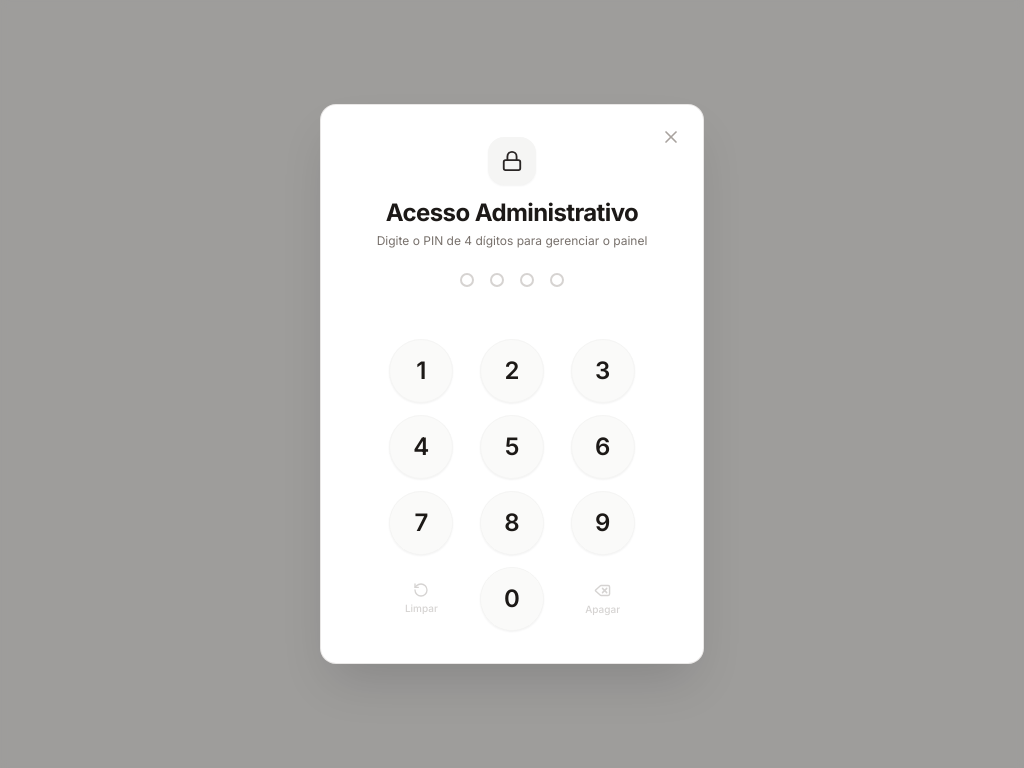
Test: AdminPinModal Component › displays error message, clears pin and allows retry when login fails
Click the button "9" at [603, 523], box [571, 491, 635, 555]
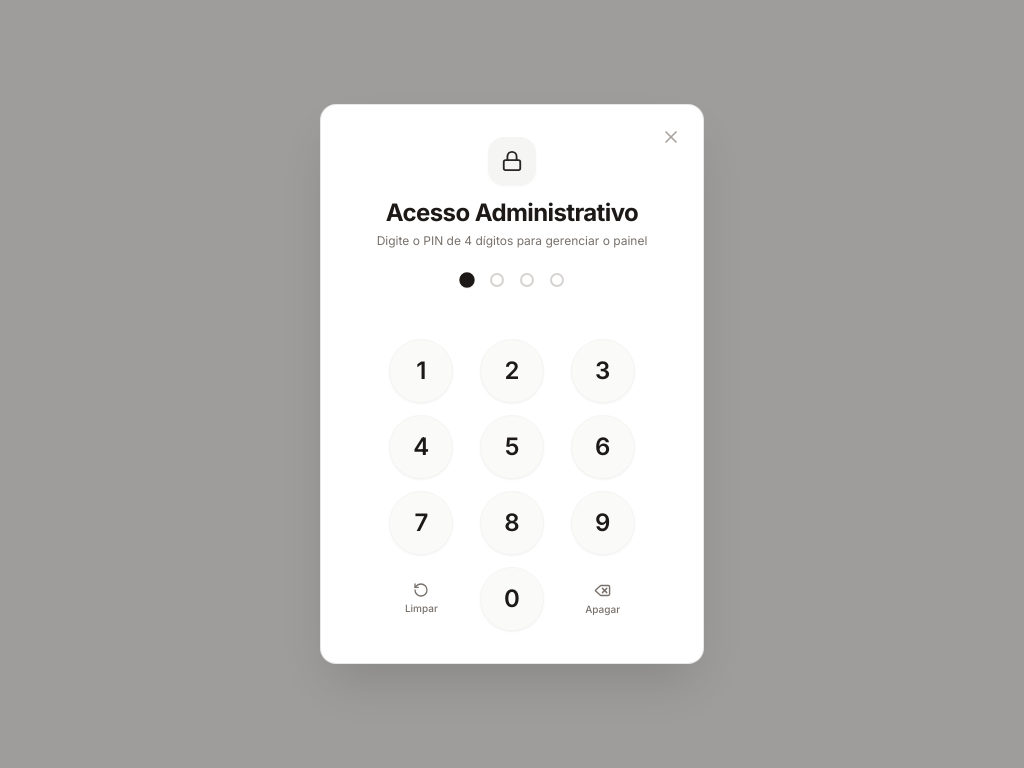
Click the button "9" at [603, 523], box [571, 491, 635, 555]
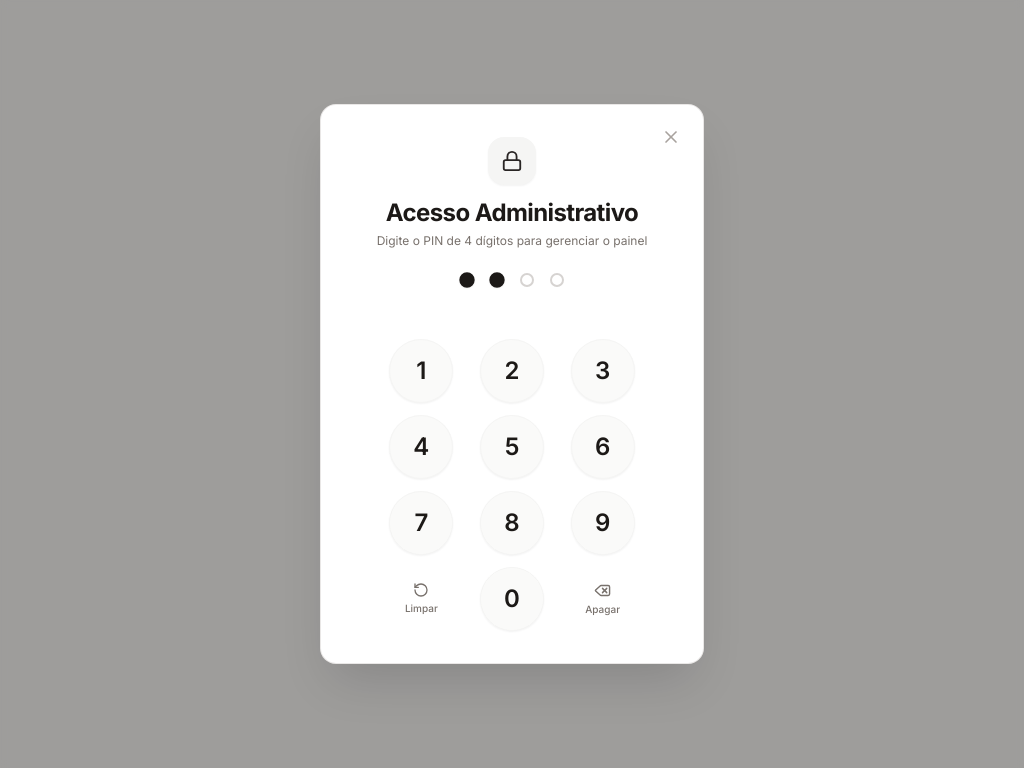
Click the button "9" at [603, 523], box [571, 491, 635, 555]
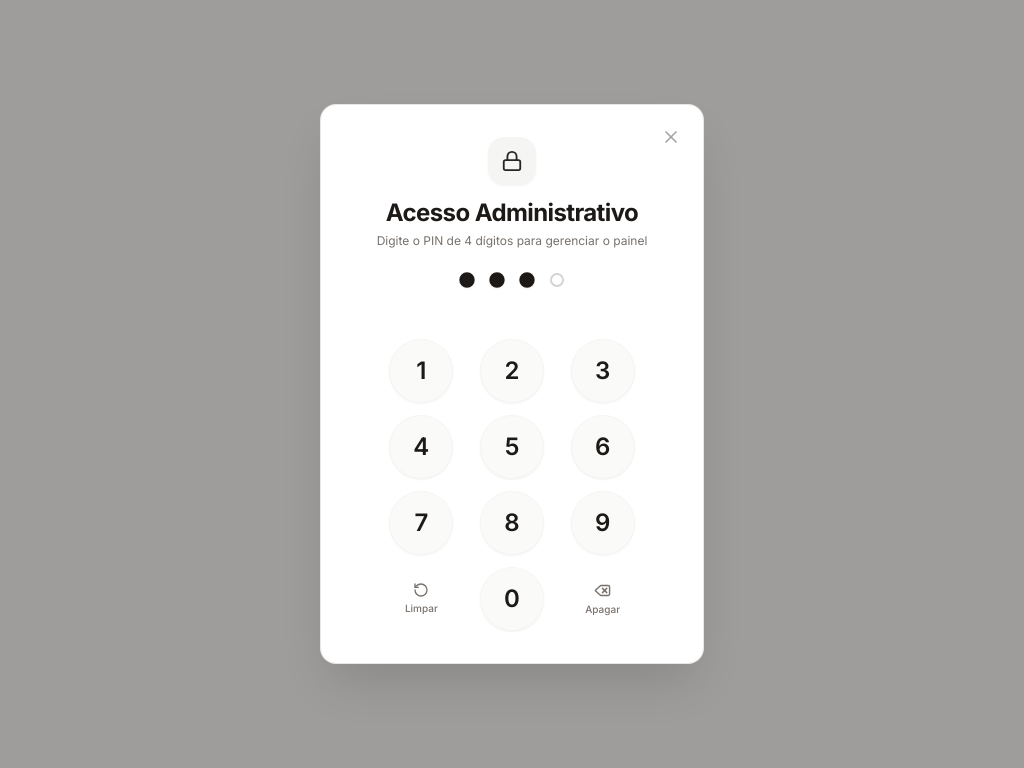
Click the button "9" at [603, 523], box [571, 491, 635, 555]
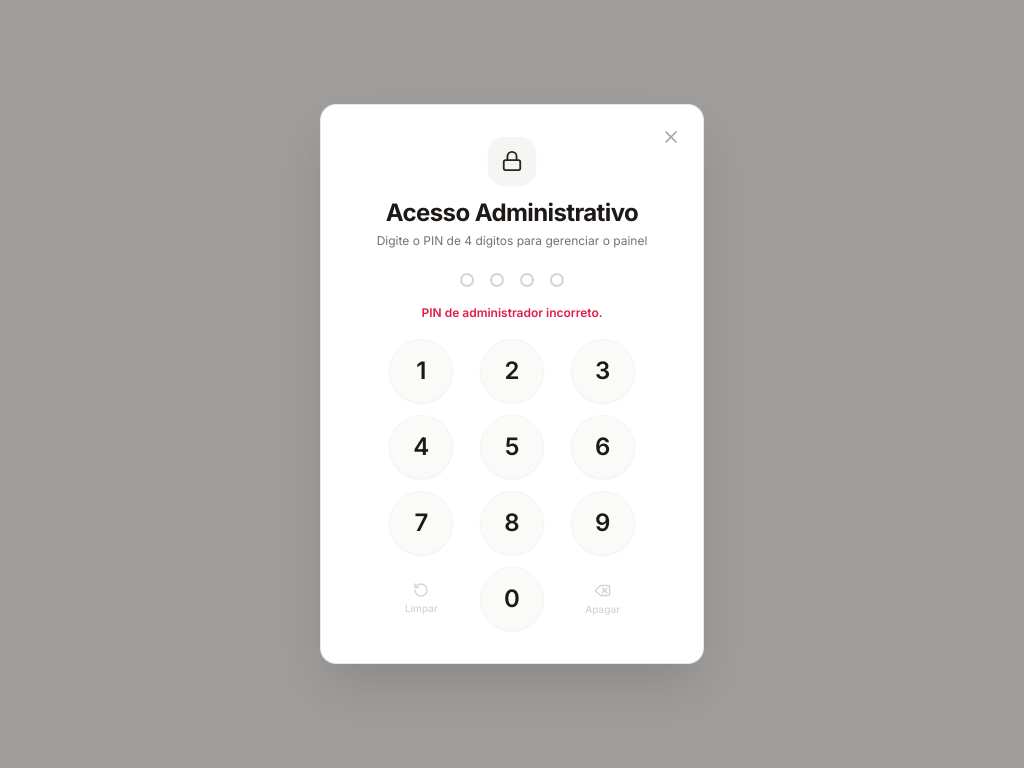
Now the text "PIN de administrador incorreto." is shown, box [422, 305, 603, 321]
